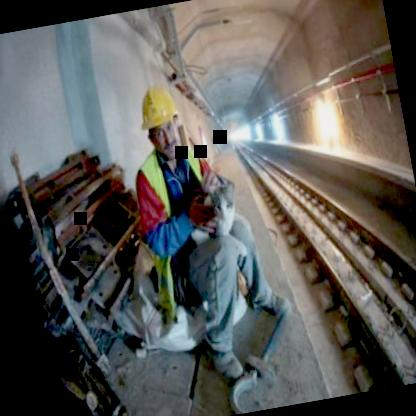helmet: (131, 72, 188, 167)
